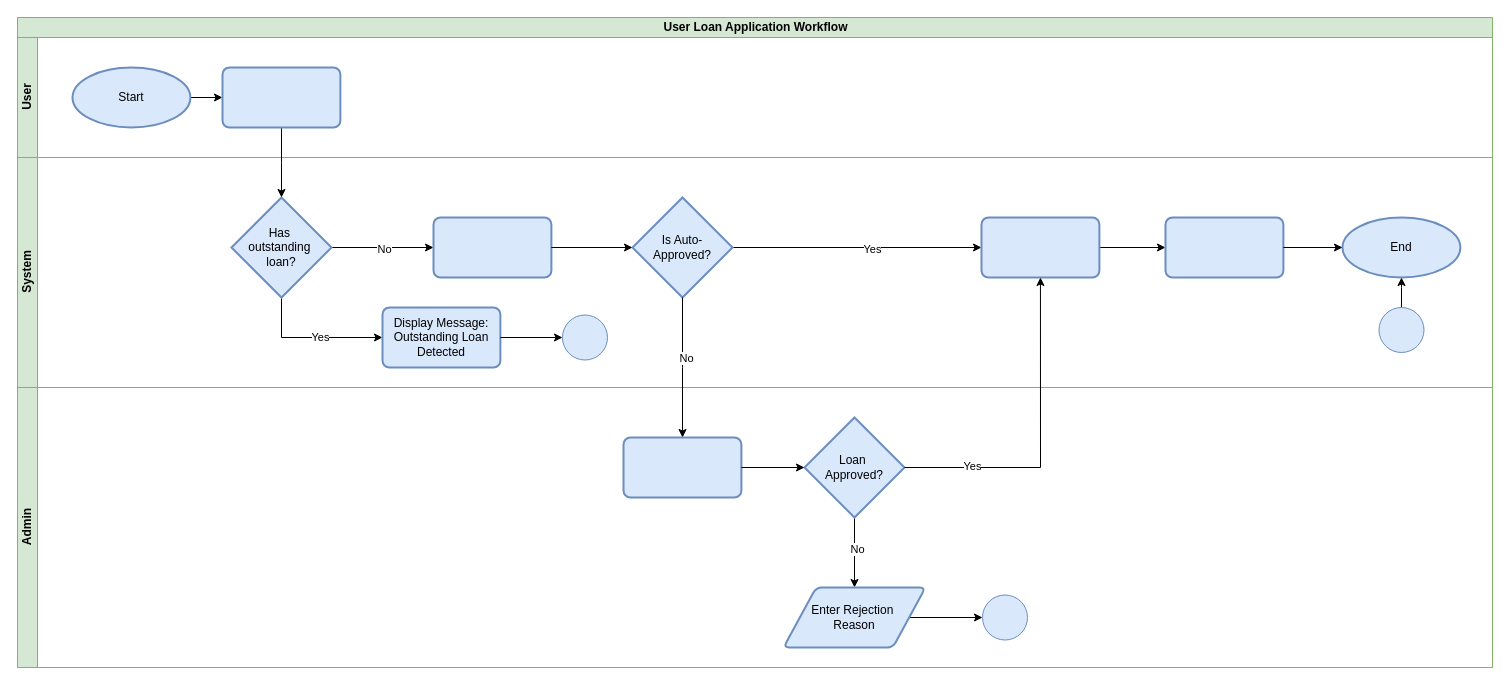
This 1510x685 diagram has some shape labels left out. The centre of each missing label's shape, as x and y in pixels:
Disburse Loan: (x=1040, y=247)
Evaluate Loan Application: (x=682, y=467)
Evaluate Weights & Risk: (x=492, y=247)
Send Disbursement Notification: (x=1224, y=247)
Submit Loan: (x=281, y=97)
